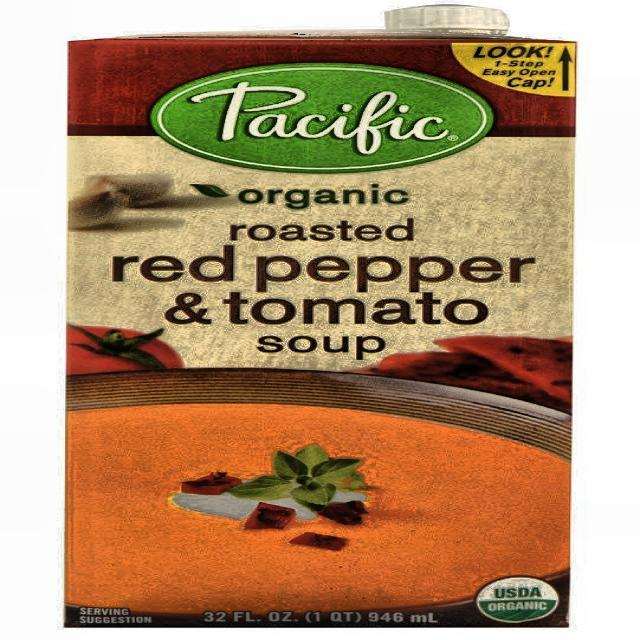cardboard: (64, 26, 575, 627)
